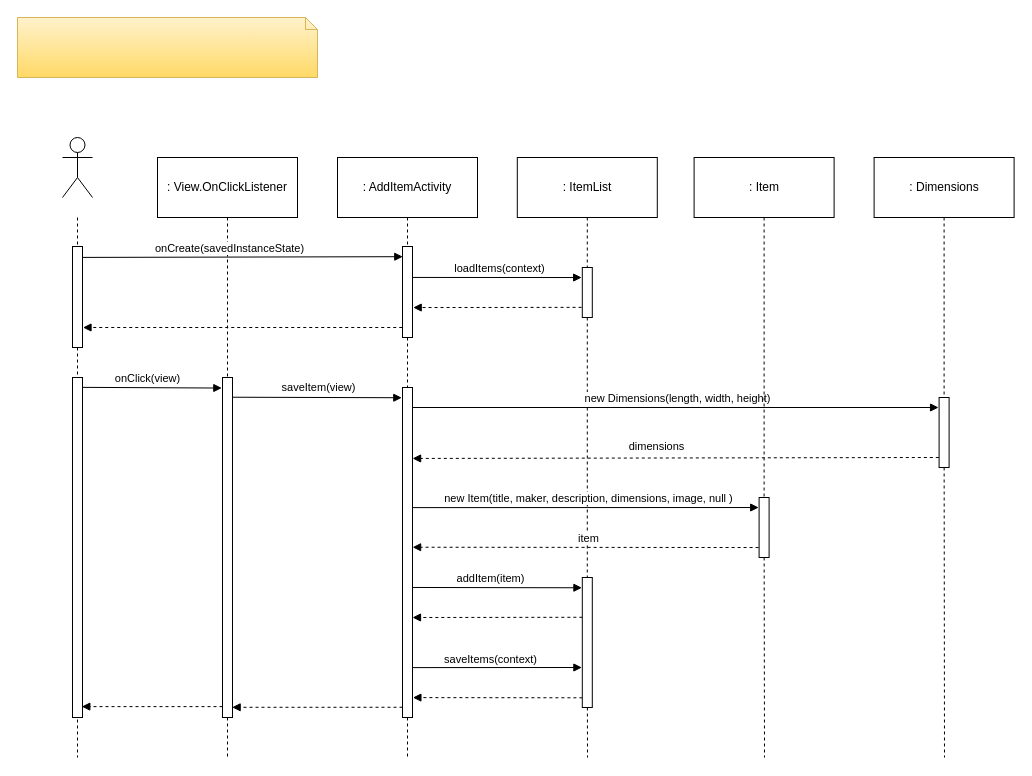
Image size: 1032x776. Some labels were removed from this diagram. Each missing label, with the centre of its shape:
"UML Sequence Diagram: Adding a New Item Jeff" goes at (x=167, y=47).
"User" goes at (x=77, y=167).
